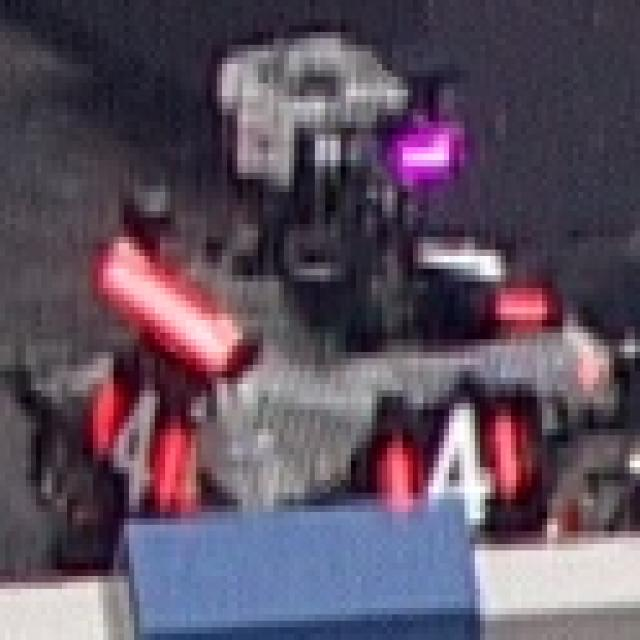R4: (366, 397, 526, 518), (88, 378, 191, 512)
